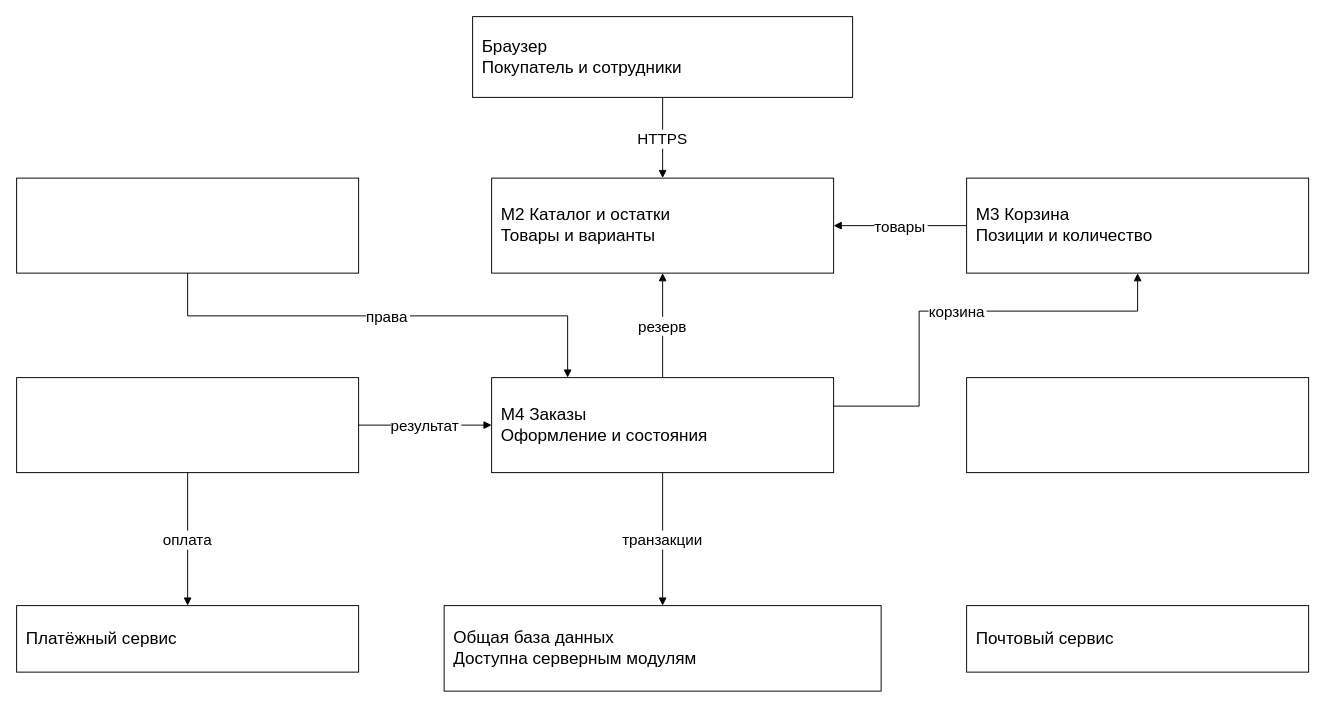
Image size: 1325x708. Some labels were removed from this diagram. Each missing label, with the centre of its shape:
М1 Пользователи Вход и роли: the point at 187,225
М5 Оплата Проверка подтверждений: the point at 187,425
М6 Уведомления Очередь писем: the point at 1137,425
